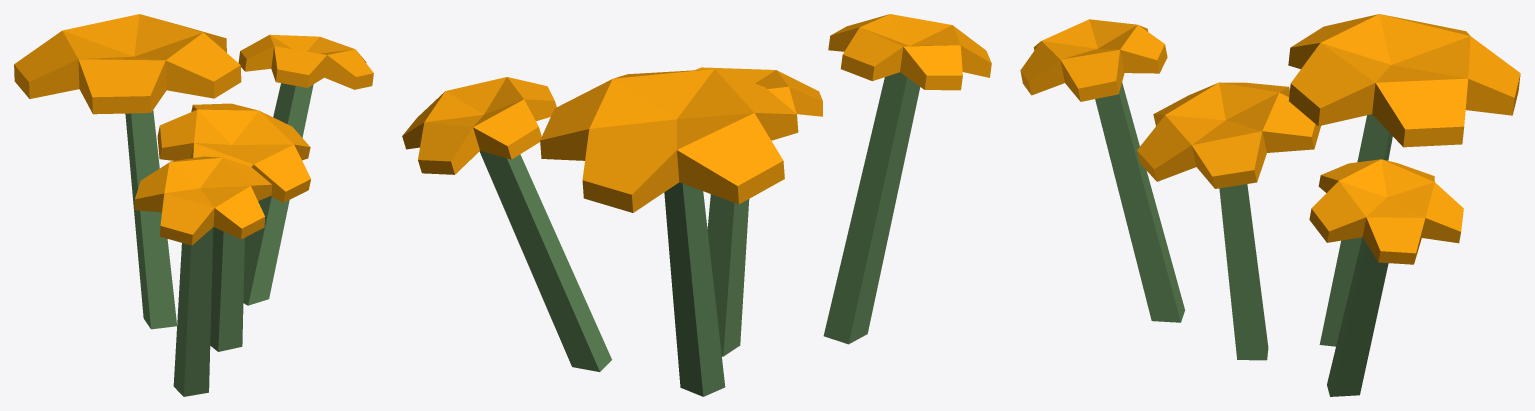
The model's file is SM_Env_FlowerPatch_02.obj.
The picture shows the model from 3 angles, left to right: view 1: azimuth 30°, elevation 25°; view 2: azimuth 150°, elevation 25°; view 3: azimuth 270°, elevation 25°; orthographic projection. The views are drawn at different scales.
Visible parts, largest first — view 1: SM_Env_FlowerPatch_02_0; view 2: SM_Env_FlowerPatch_02_0; view 3: SM_Env_FlowerPatch_02_0.
Part boxes in pixels (x1,y1,x2,y2): SM_Env_FlowerPatch_02_0: [14, 14, 373, 396]; SM_Env_FlowerPatch_02_0: [402, 14, 991, 396]; SM_Env_FlowerPatch_02_0: [1020, 14, 1520, 396].
Bounding box in the file's own units: 0.473 × 0.3465 × 0.5305.
Materials: 1 (1 with a texture image).
